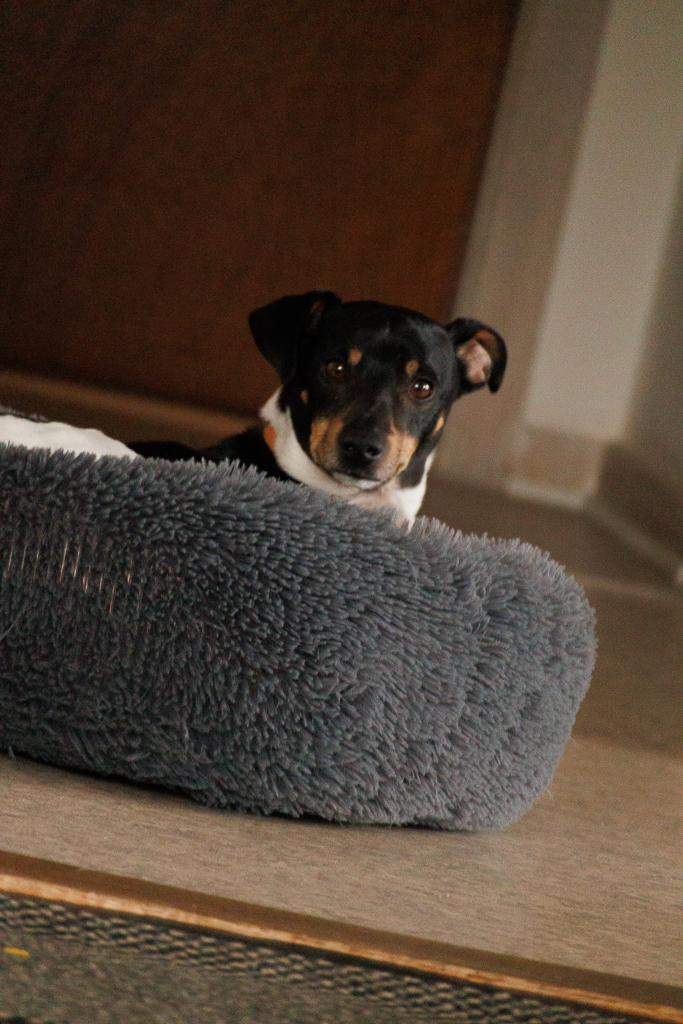Dog: (0, 282, 513, 537)
